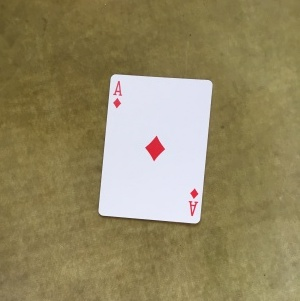card: (97, 74, 213, 227)
